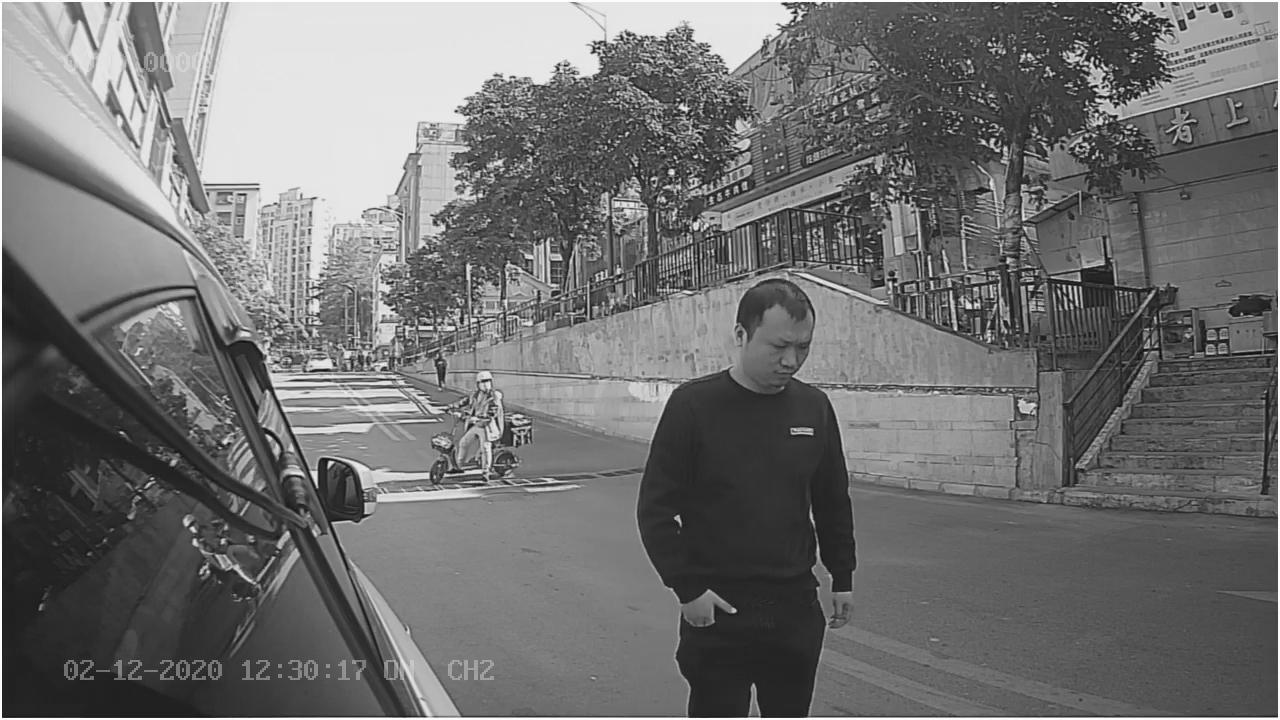person: (637, 275, 868, 637)
